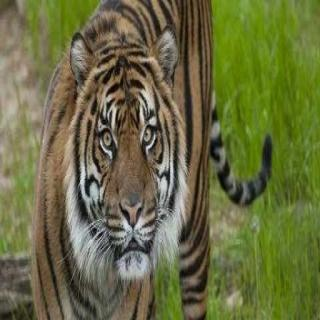Tiger: (31, 0, 286, 320)
